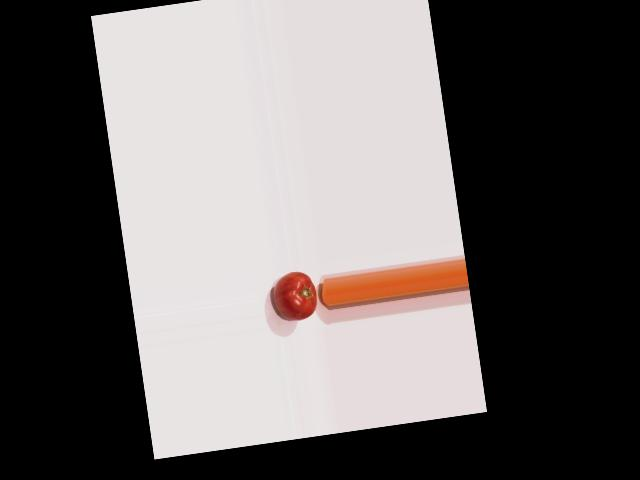tomato: (270, 269, 319, 322)
